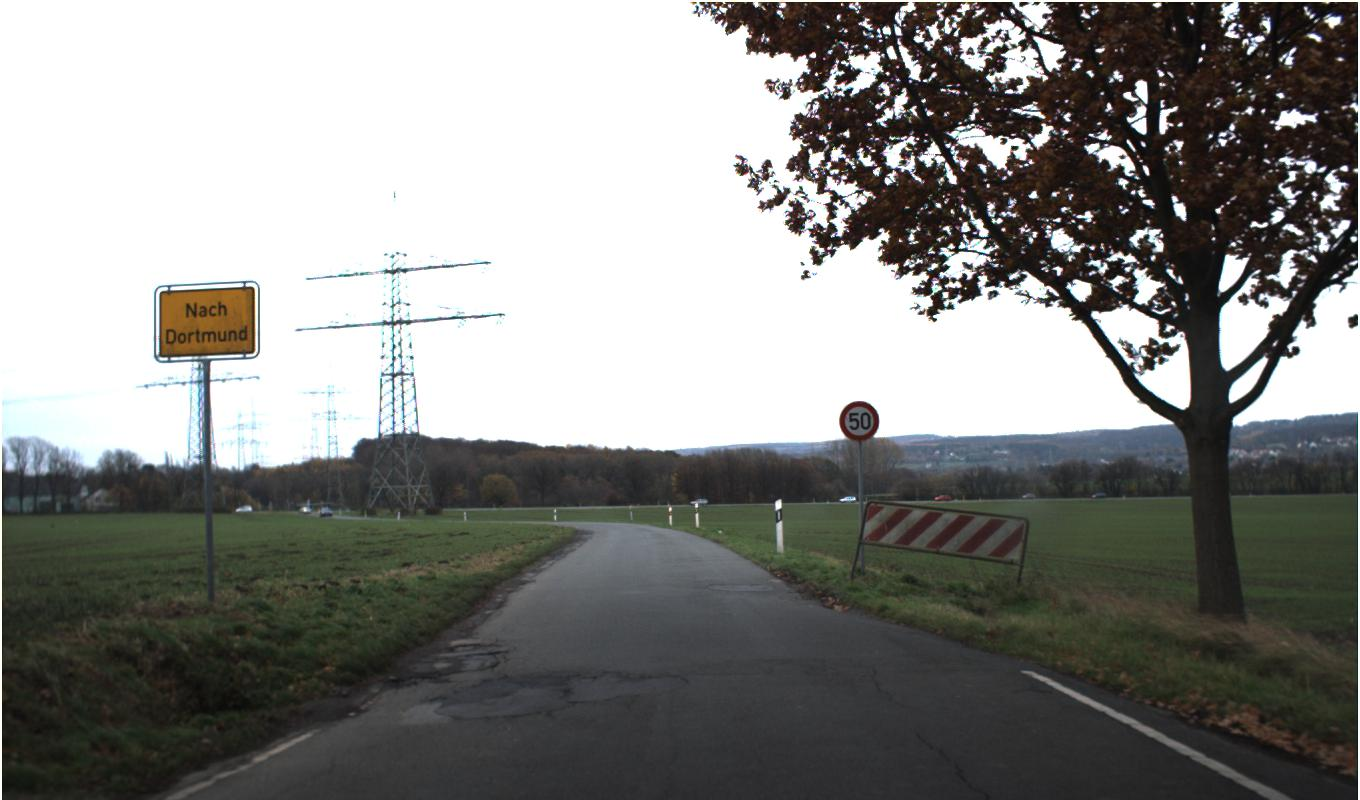prohibitory: (838, 400, 880, 442)
